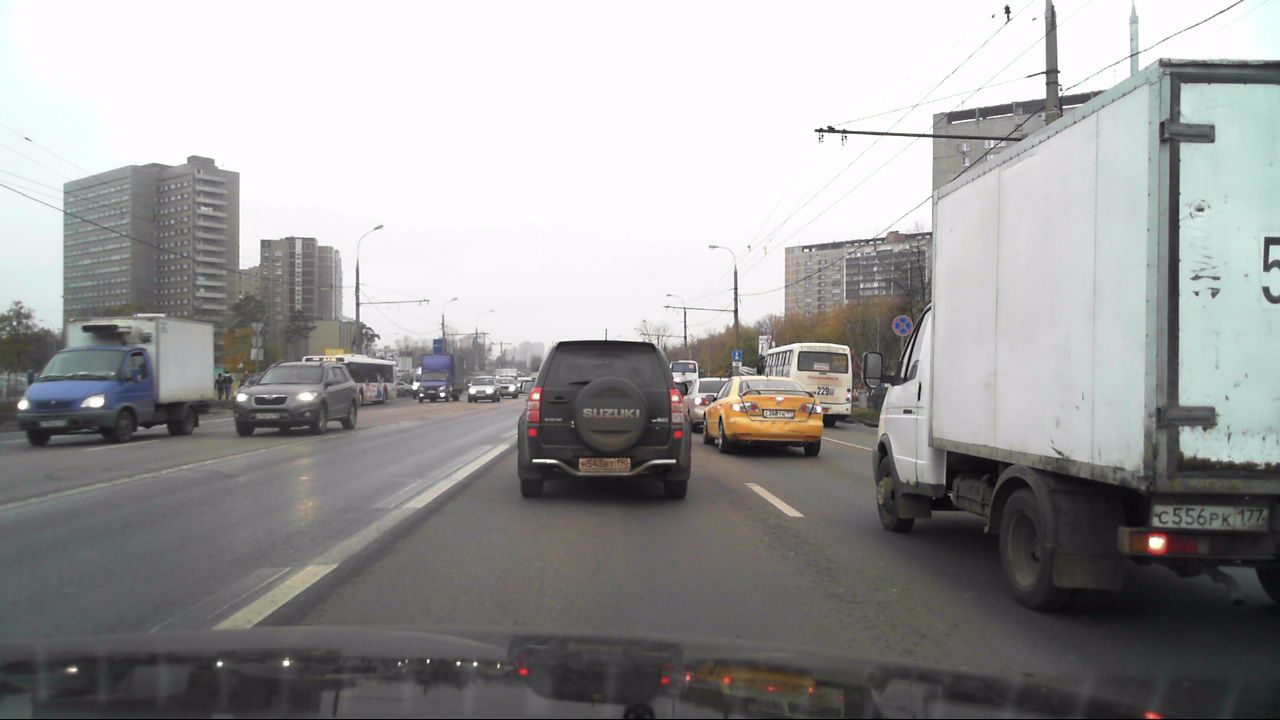No Parking: (891, 315, 914, 336)
